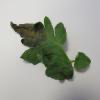Potato leaf late blight: (8, 19, 92, 83)
